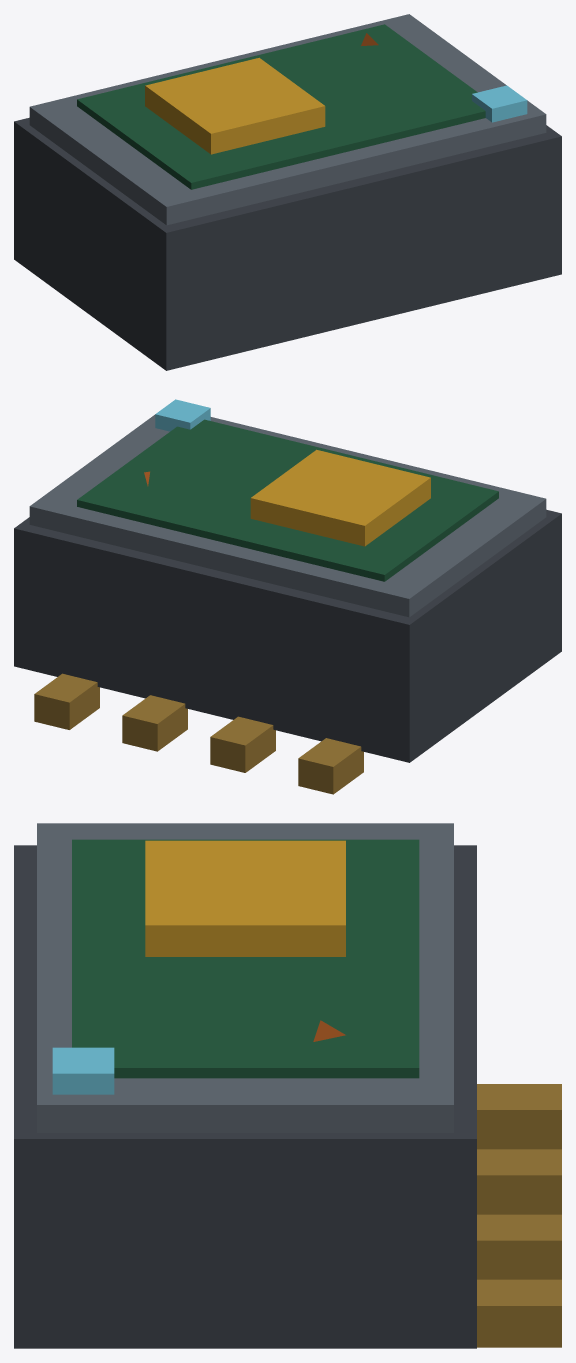
Rendered from droid-reflex-protocol-mk-2.lod.glb.
The picture shows the model from 3 angles, top to bottom: view 1: azimuth 30°, elevation 25°; view 2: azimuth 150°, elevation 25°; view 3: azimuth 270°, elevation 25°; orthographic projection. The views are drawn at different scales.
Visible parts, largest first — view 1: m; view 2: m; view 3: m.
Boxes of the visible parts, left/top/right/bottom form: m: left=14, top=14, right=561, bottom=370; m: left=14, top=399, right=561, bottom=794; m: left=14, top=823, right=561, bottom=1348.
Bounding box in the file's own units: 0.1 × 0.05 × 0.0789.
